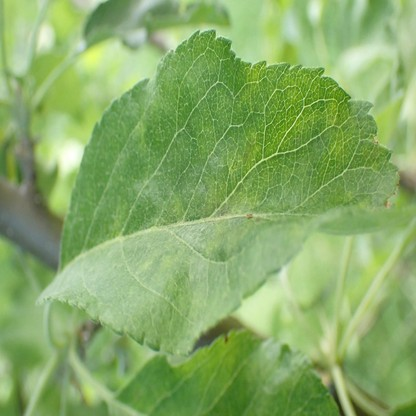scab: (221, 193, 261, 217), (231, 137, 256, 172), (107, 197, 127, 238), (135, 246, 159, 275), (161, 244, 181, 272), (206, 231, 227, 253), (173, 191, 185, 221), (203, 178, 215, 208), (235, 227, 245, 236)
